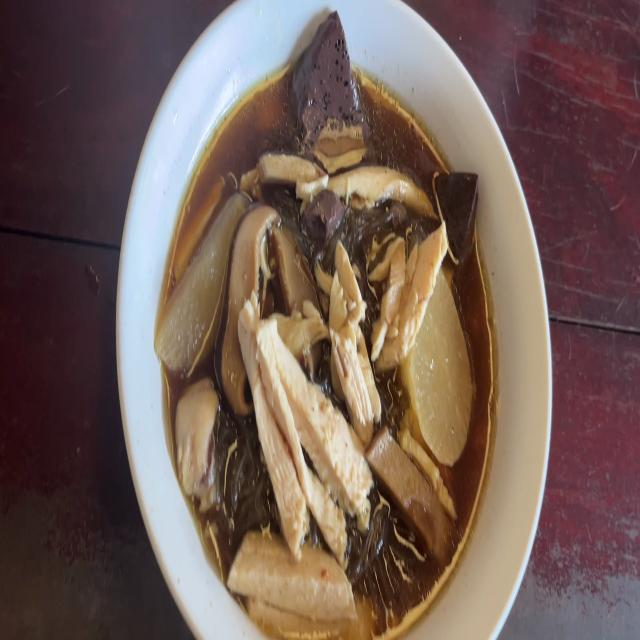boiled_chicken_blood_jelly: (294, 10, 365, 138), (433, 167, 481, 261), (305, 174, 349, 250)
chicken_shredded: (243, 311, 362, 550), (227, 534, 365, 640), (376, 225, 450, 366), (328, 236, 381, 430), (320, 144, 430, 214), (174, 384, 214, 492), (252, 134, 316, 196)
daikon_radish: (156, 189, 229, 372), (412, 298, 472, 452)
noodle: (164, 60, 496, 640)
